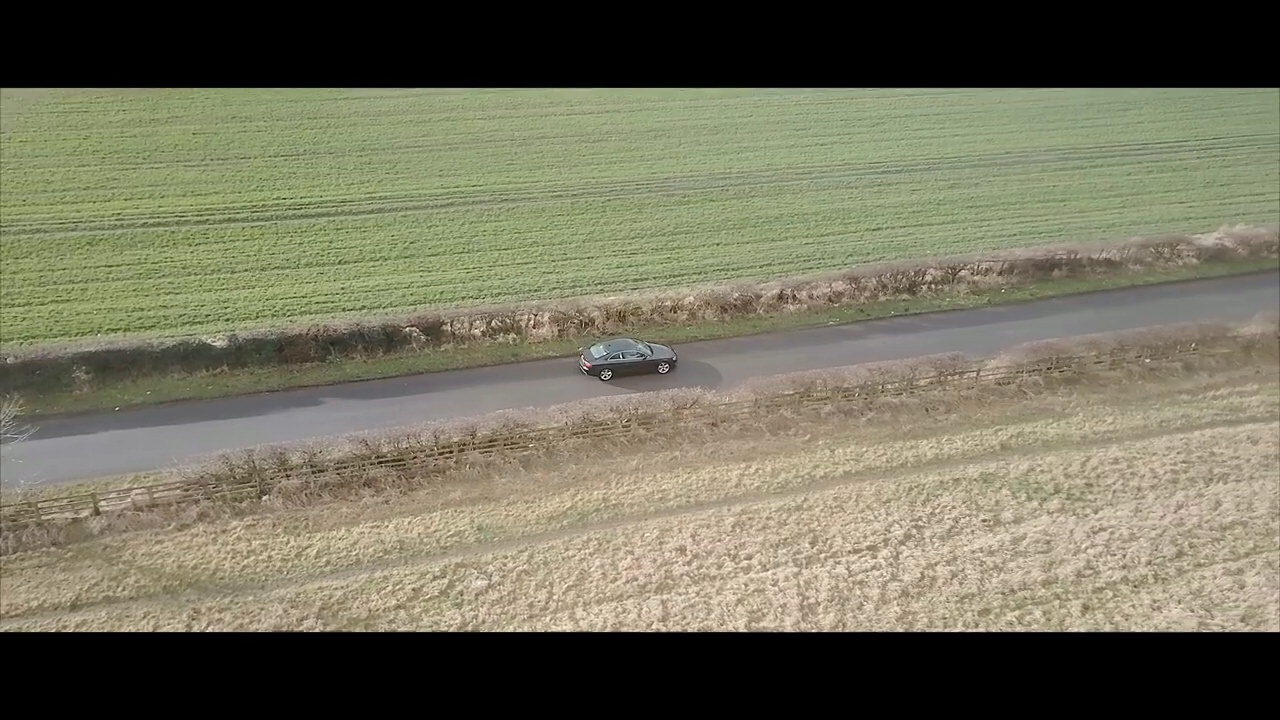araba: (571, 334, 678, 383)
